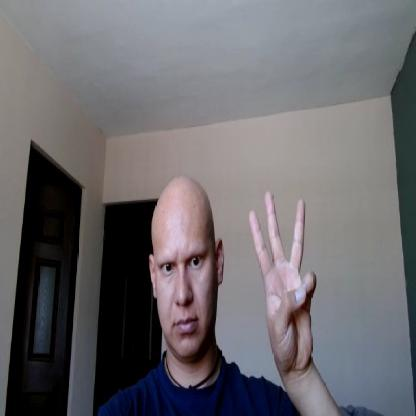W: (249, 190, 317, 367)
